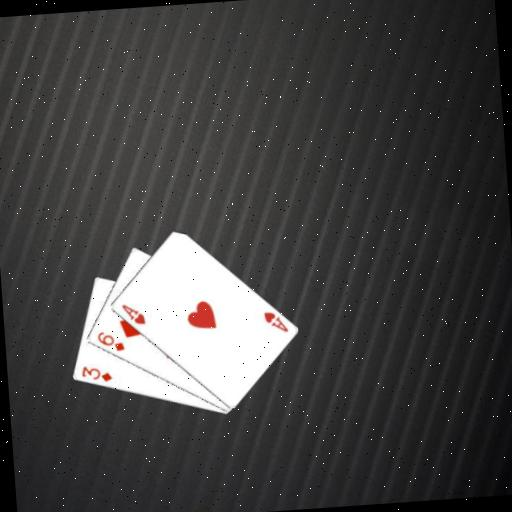3D: (78, 362, 114, 386)
6D: (94, 328, 126, 355)
AH: (118, 300, 147, 328), (260, 308, 289, 336)
